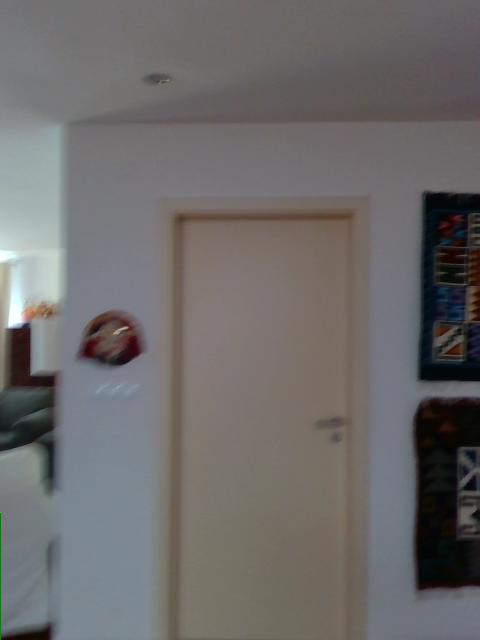door: (148, 201, 370, 639)
